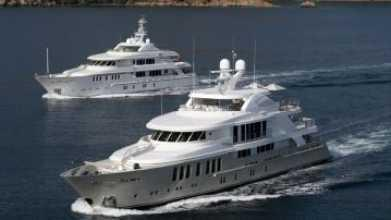yacht: (57, 55, 331, 211), (34, 11, 199, 96)
